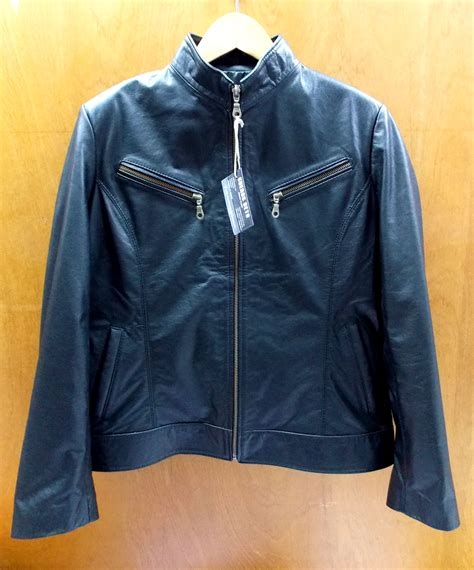cuero: (12, 31, 461, 543)
